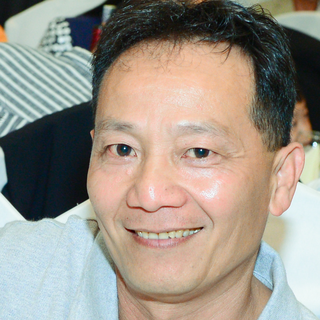eye: (97, 134, 149, 167), (175, 142, 227, 164)
